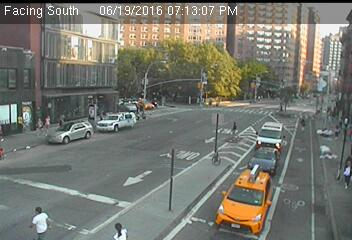neg: (269, 186, 299, 226), (74, 104, 99, 137), (313, 140, 332, 166), (111, 124, 129, 149), (55, 215, 72, 237), (311, 98, 327, 118), (243, 81, 257, 100), (129, 122, 142, 140), (136, 70, 147, 85)
pos: (23, 202, 50, 238), (332, 148, 351, 193), (329, 122, 345, 144), (31, 116, 47, 138), (40, 111, 56, 133), (112, 217, 128, 237)
